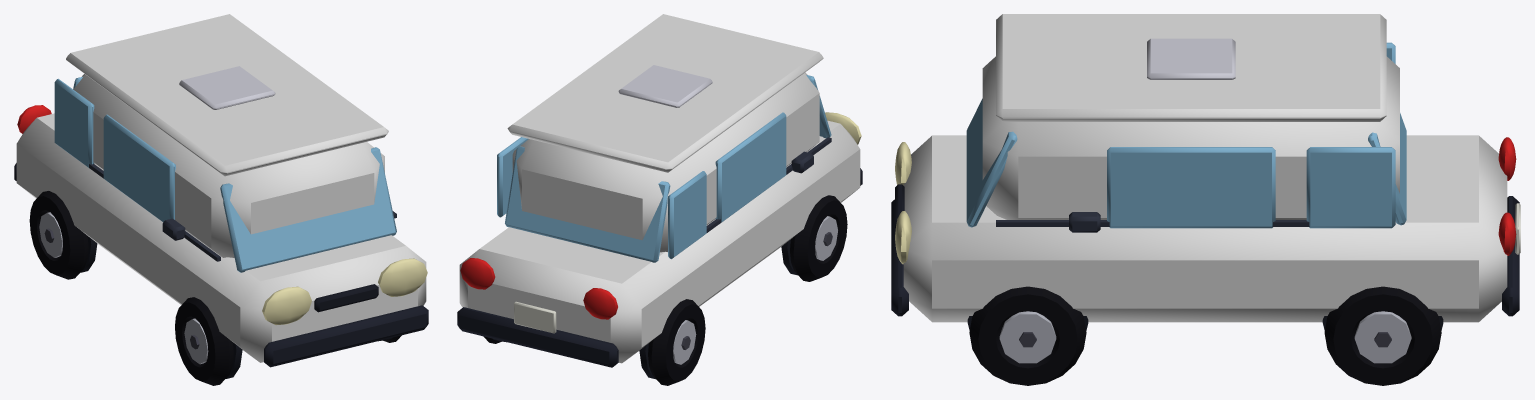
The model's file is car.glb.
3 renders of one model, left to right at view 1: azimuth 30°, elevation 25°; view 2: azimuth 150°, elevation 25°; view 3: azimuth 270°, elevation 25°, orthographic. The views are drawn at different scales.
Visible parts, largest first — view 1: car; view 2: car; view 3: car.
Part boxes in pixels (<box>): car: <box>14,14,428,385</box>; car: <box>457,14,862,385</box>; car: <box>891,14,1520,385</box>.
Size of the model in its own units: 1.64 by 1.72 by 3.54.
